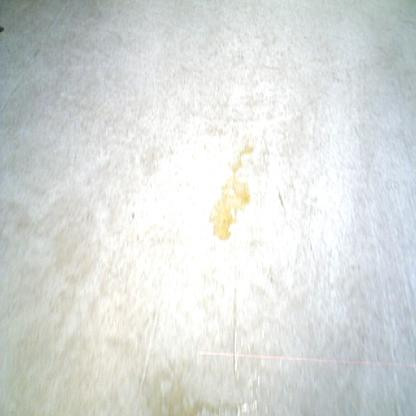liquid: (233, 338, 274, 416), (208, 175, 250, 240), (142, 363, 192, 416), (192, 397, 258, 416), (227, 141, 255, 177)
mark: (31, 46, 41, 58), (278, 192, 284, 207), (130, 211, 135, 221)
